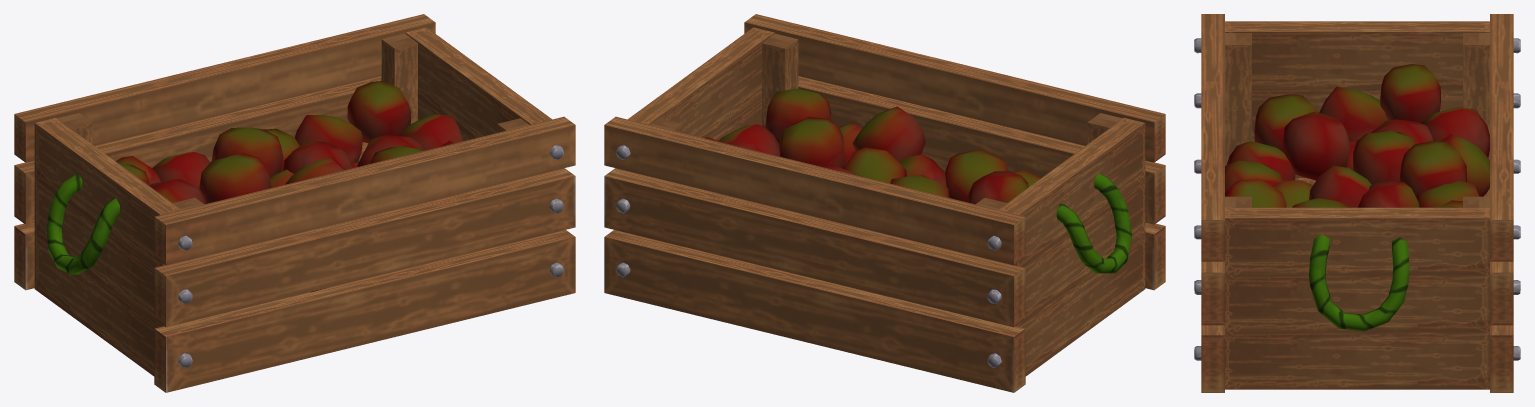
File: farm_crate_apple.glb
The picture shows the model from 3 angles, left to right: view 1: azimuth 30°, elevation 25°; view 2: azimuth 150°, elevation 25°; view 3: azimuth 270°, elevation 25°; orthographic projection. The views are drawn at different scales.
Parts seen in each view (by area): view 1: FarmCrate_Apple; view 2: FarmCrate_Apple; view 3: FarmCrate_Apple.
Part boxes in pixels (<box>): FarmCrate_Apple: <box>14,14,575,392</box>; FarmCrate_Apple: <box>604,14,1165,392</box>; FarmCrate_Apple: <box>1194,14,1520,392</box>.
Bounding box in the file's own units: 0.7138 × 0.2438 × 0.4142.
3 materials, 3 textured.
